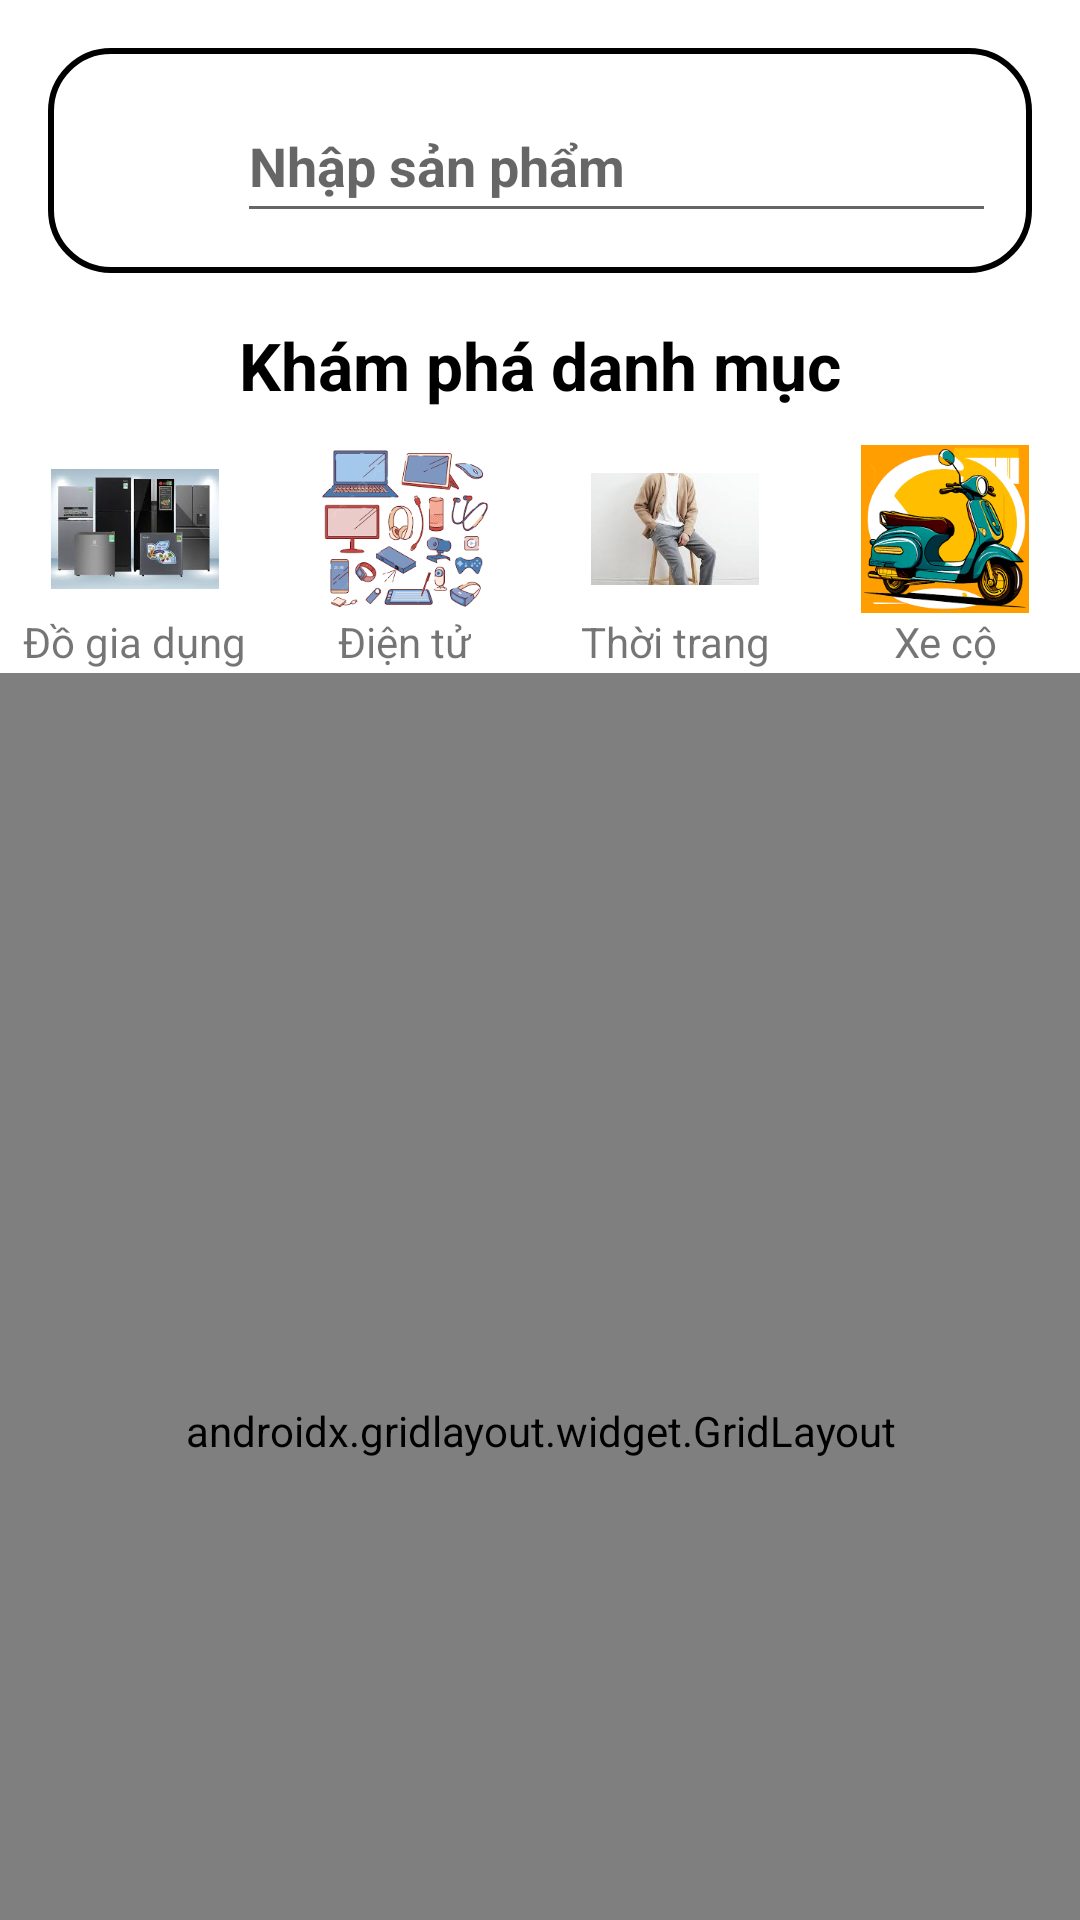

Icons on this 1080*1920 Android screen, each with the point to tap as (x=x, y=y):
tulanh: (x=135, y=529)
